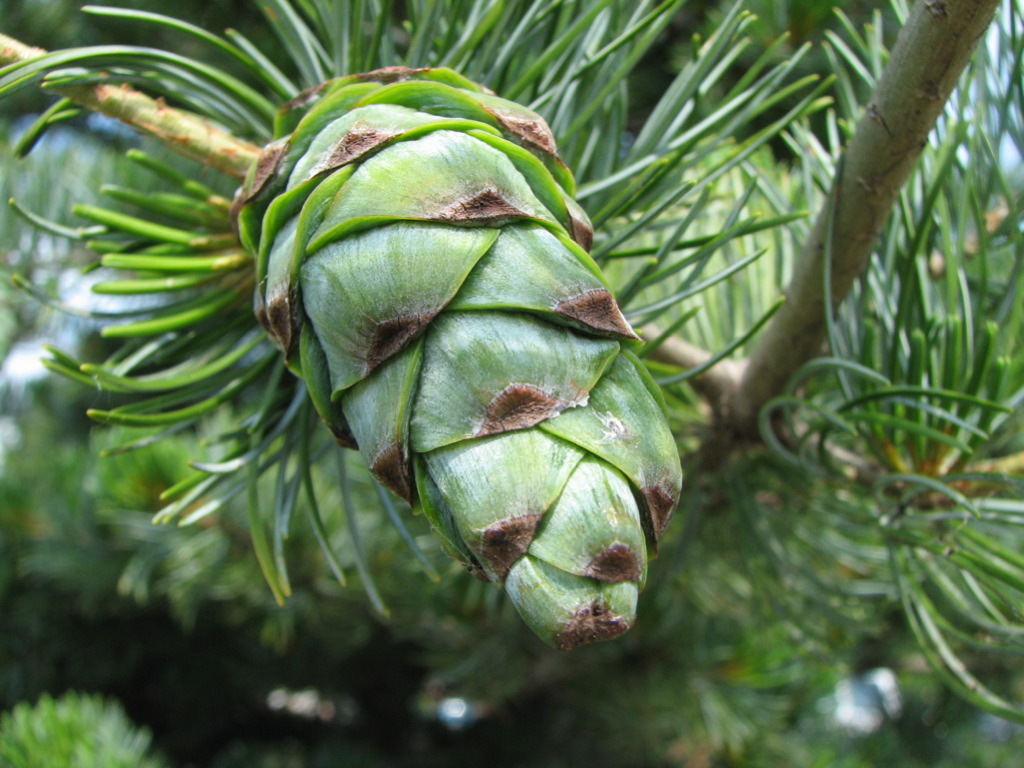Tree: (0, 1, 1024, 767)
